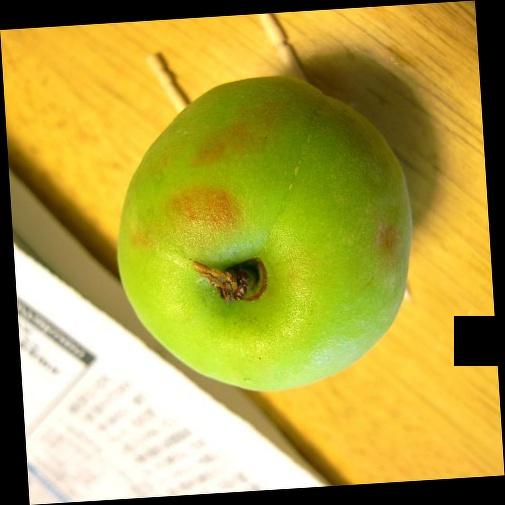green apple: (109, 73, 422, 394)
